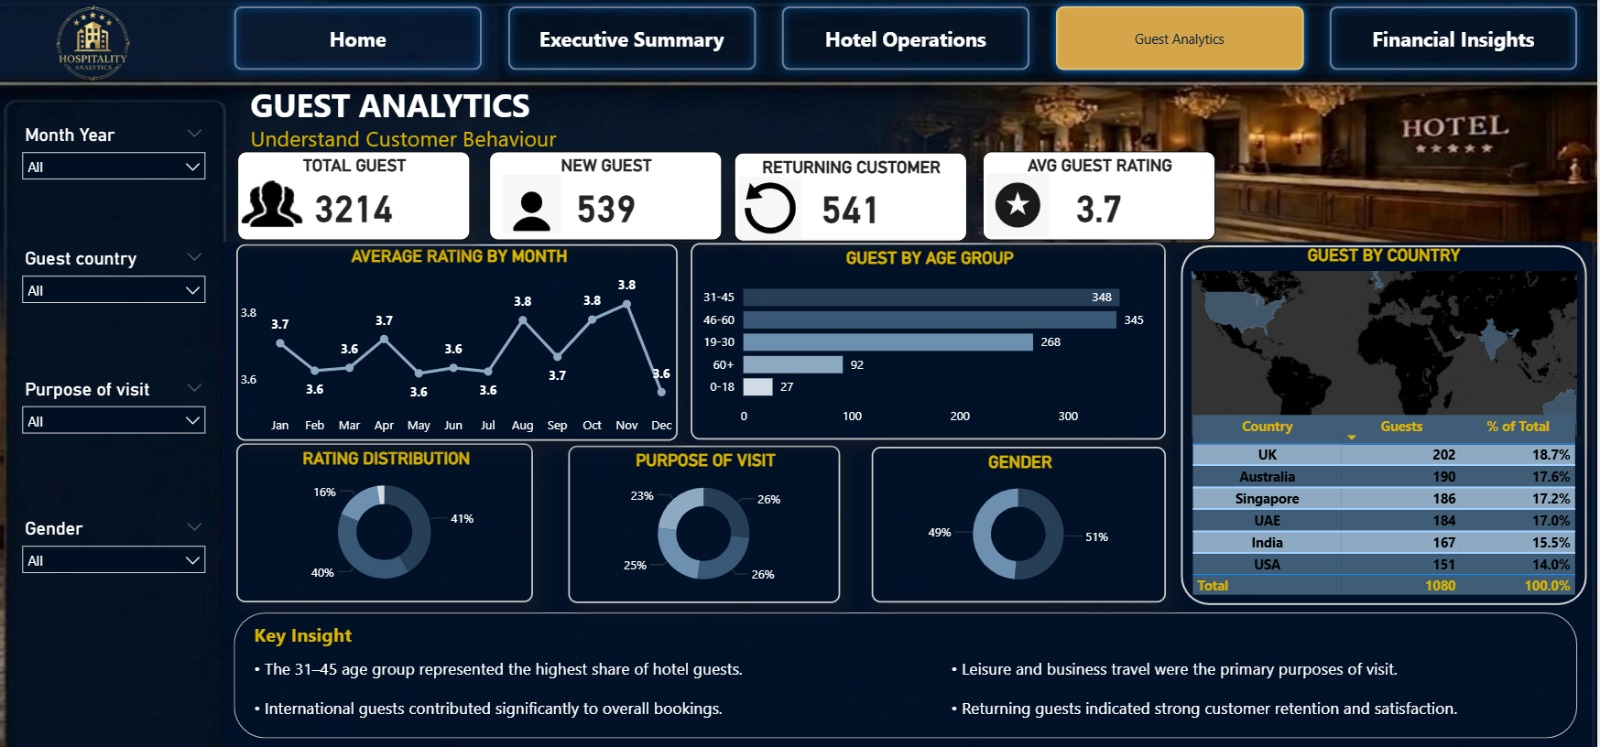

The dashboard page shown, as its layout file describes it:
{"tool":"powerbi","page":{"name":"Guest Analytics","canvas":[1600,750],"ordinal":3},"visuals":[{"type":"image","box":[21.8,0,146.6,90.5],"z":0},{"type":"shape","box":[227.2,605.5,1362,144],"z":0,"group":"g1"},{"type":"textbox","box":[247,80.5,348.6,52.2],"z":1000},{"type":"textbox","box":[251.2,619.6,127,35.3],"z":1000,"group":"g1"},{"type":"textbox","box":[247,120,371.2,46.6],"z":2000},{"type":"card","title":"RETURNING CUSTOMER","fields":{"Values":["CountNonNull(hospitality_final_dataset3.Booking id)"]},"box":[737,154.6,232.9,88.9],"z":2500,"group":"g2"},{"type":"card","title":"TOTAL GUEST","fields":{"Values":["Sum(hospitality_final_dataset3.Total guest)"]},"box":[239.3,153.8,232.9,88.9],"z":3000,"group":"g4"},{"type":"card","title":"NEW GUEST","fields":{"Values":["CountNonNull(hospitality_final_dataset3.Booking id)"]},"box":[491.1,153.8,232.9,88.9],"z":3000},{"type":"pageNavigator","box":[227.6,0,1361.7,80],"z":4000},{"type":"card","title":"AVG GUEST RATING","fields":{"Values":["Avg(hospitality_final_dataset3.Guest rating)"]},"box":[984.6,153.1,232.9,88.9],"z":5000,"group":"g3"},{"type":"group","id":"g1","title":"Group 6","box":[227.2,605.5,1362,144],"z":5000},{"type":"group","id":"g2","title":"Group 1","box":[737,154.6,232.6,88.6],"z":6000},{"type":"donutChart","title":"RATING DISTRIBUTION","fields":{"Category":["hospitality_final_dataset3.Review category"],"Y":["CountNonNull(hospitality_final_dataset3.Guest id)"]},"box":[238.6,445.8,297.2,159.1],"z":7000},{"type":"filledMap","title":"GUEST BY COUNTRY","fields":{"Category":["hospitality_final_dataset3.Guest country"]},"box":[1189,254.4,395.3,191.9],"z":8000},{"type":"donutChart","title":"PURPOSE OF VISIT","fields":{"Category":["hospitality_final_dataset3.Purpose of visit"],"Y":["CountNonNull(hospitality_final_dataset3.Guest id)"]},"box":[570.4,447.3,271.7,157.6],"z":9000},{"type":"lineChart","title":"AVERAGE RATING BY MONTH","fields":{"Category":["hospitality_final_dataset3.Month"],"Y":["Avg(hospitality_final_dataset3.Guest rating)"]},"box":[238.6,246.2,441.3,196.6],"z":10000},{"type":"clusteredBarChart","title":"GUEST BY AGE GROUP","fields":{"Category":["hospitality_final_dataset3.Age Group"],"Y":["CountNonNull(hospitality_final_dataset3.Guest id)"]},"box":[693.1,245.5,475.2,196.7],"z":11000},{"type":"donutChart","title":"GENDER","fields":{"Y":["CountNonNull(hospitality_final_dataset3.Guest id)"],"Category":["hospitality_final_dataset3.Gender"]},"box":[873.5,448.8,294.2,156.1],"z":12000},{"type":"tableEx","fields":{"Values":["hospitality_final_dataset3.Guest country","hospitality_final_dataset3.Guest id","Measure.% of Total Guests"]},"box":[1189.1,412.6,395.1,205.1],"z":13000},{"type":"group","id":"g3","title":"Group 2","box":[983.8,153.1,233.7,92.5],"z":14000},{"type":"group","id":"g4","title":"Group 3","box":[227.2,153.8,245,89],"z":15000},{"type":"image","box":[983.8,166.6,73.4,79],"z":15001,"group":"g3"},{"type":"image","box":[227.2,172.2,94.6,70.6],"z":15003,"group":"g4"},{"type":"image","box":[491.2,172.2,84.7,69.2],"z":16000},{"type":"image","box":[736.8,173.6,72,72],"z":17000},{"type":"slicer","fields":{"Values":["hospitality.Month Year"]},"box":[14.1,121.4,203.2,77.6],"z":18000},{"type":"slicer","fields":{"Values":["hospitality.Guest country"]},"box":[14.1,245.6,203.2,77.6],"z":19000},{"type":"slicer","fields":{"Values":["hospitality.Purpose of visit"]},"box":[14.1,375.4,203.2,77.6],"z":20000},{"type":"slicer","fields":{"Values":["hospitality.Gender"]},"box":[14.1,515.2,203.2,77.6],"z":21000},{"type":"textbox","box":[251.2,654.9,657.7,94.6],"z":22000},{"type":"textbox","box":[948.5,654.9,616.8,94.6],"z":23000},{"type":"shape","box":[1184.6,245.6,405.5,360.5],"z":24000}]}

Visuals, with their boxes in screenshot pixels (x1, y1, x2, y2), scaled from the page's 1600x750 canvas onto the 1600x747 screenshot:
image: locate(22, 0, 168, 90)
shape: locate(227, 603, 1589, 746)
textbox: locate(247, 80, 596, 132)
textbox: locate(251, 617, 378, 652)
textbox: locate(247, 120, 618, 166)
"RETURNING CUSTOMER" card: locate(737, 154, 970, 243)
"TOTAL GUEST" card: locate(239, 153, 472, 242)
"NEW GUEST" card: locate(491, 153, 724, 242)
pageNavigator: locate(228, 0, 1589, 80)
"AVG GUEST RATING" card: locate(985, 152, 1218, 241)
"Group 6" group: locate(227, 603, 1589, 746)
"Group 1" group: locate(737, 154, 970, 242)
"RATING DISTRIBUTION" donutChart: locate(239, 444, 536, 602)
"GUEST BY COUNTRY" filledMap: locate(1189, 253, 1584, 445)
"PURPOSE OF VISIT" donutChart: locate(570, 446, 842, 602)
"AVERAGE RATING BY MONTH" lineChart: locate(239, 245, 680, 441)
"GUEST BY AGE GROUP" clusteredBarChart: locate(693, 245, 1168, 440)
"GENDER" donutChart: locate(874, 447, 1168, 602)
tableEx - hospitality_final_dataset3.Guest country x hospitality_final_dataset3.Guest id: locate(1189, 411, 1584, 615)
"Group 2" group: locate(984, 152, 1218, 245)
"Group 3" group: locate(227, 153, 472, 242)
image: locate(984, 166, 1057, 245)
image: locate(227, 172, 322, 242)
image: locate(491, 172, 576, 240)
image: locate(737, 173, 809, 245)
slicer - hospitality.Month Year: locate(14, 121, 217, 198)
slicer - hospitality.Guest country: locate(14, 245, 217, 322)
slicer - hospitality.Purpose of visit: locate(14, 374, 217, 451)
slicer - hospitality.Gender: locate(14, 513, 217, 590)
textbox: locate(251, 652, 909, 746)
textbox: locate(948, 652, 1565, 746)
shape: locate(1185, 245, 1590, 604)
